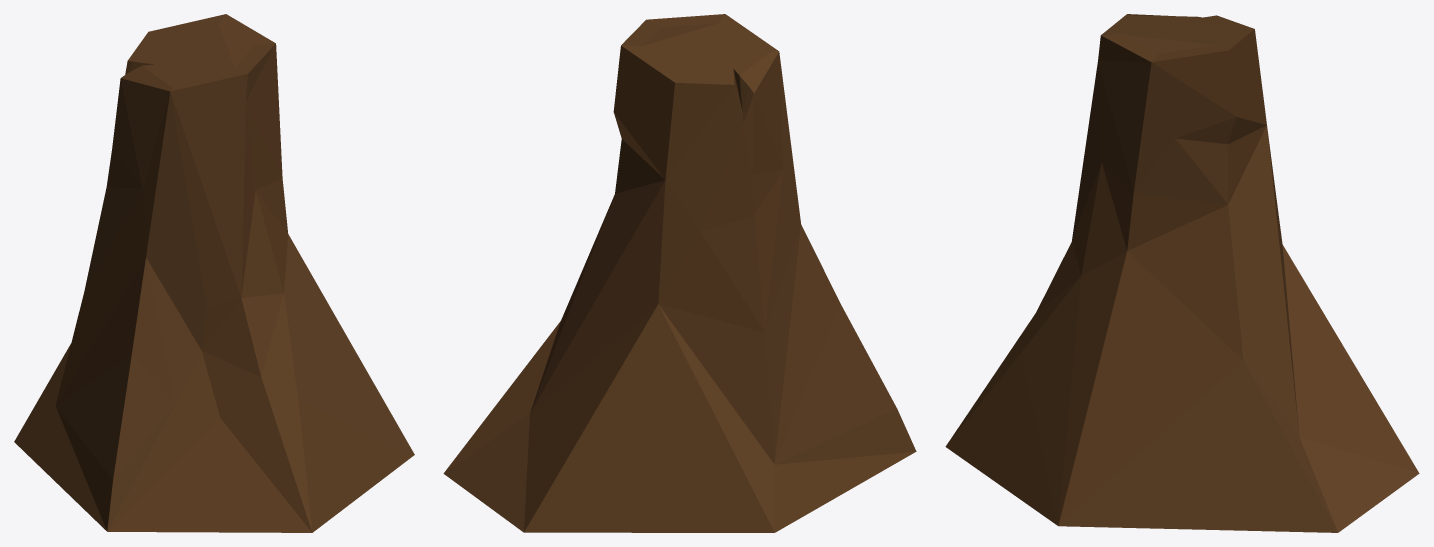
File: tree-birch-stump-b.gltf
3 views of the same model, side by side, from view 1: azimuth 30°, elevation 25°; view 2: azimuth 150°, elevation 25°; view 3: azimuth 270°, elevation 25° (orthographic). The views are drawn at different scales.
Visible parts, largest first — view 1: tree-birch-stump-b; view 2: tree-birch-stump-b; view 3: tree-birch-stump-b.
Boxes of the visible parts, bbox=[...] form: tree-birch-stump-b: bbox=[14, 14, 414, 532]; tree-birch-stump-b: bbox=[443, 14, 916, 532]; tree-birch-stump-b: bbox=[945, 14, 1419, 532].
Size of the model in its own units: 0.00593 by 0.00714 by 0.00727.
